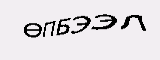Б: (55, 16, 73, 35)
Л: (119, 12, 150, 35)
П: (41, 19, 57, 39)
Э: (91, 11, 118, 31), (70, 13, 91, 35)
Ө: (21, 21, 43, 39)
